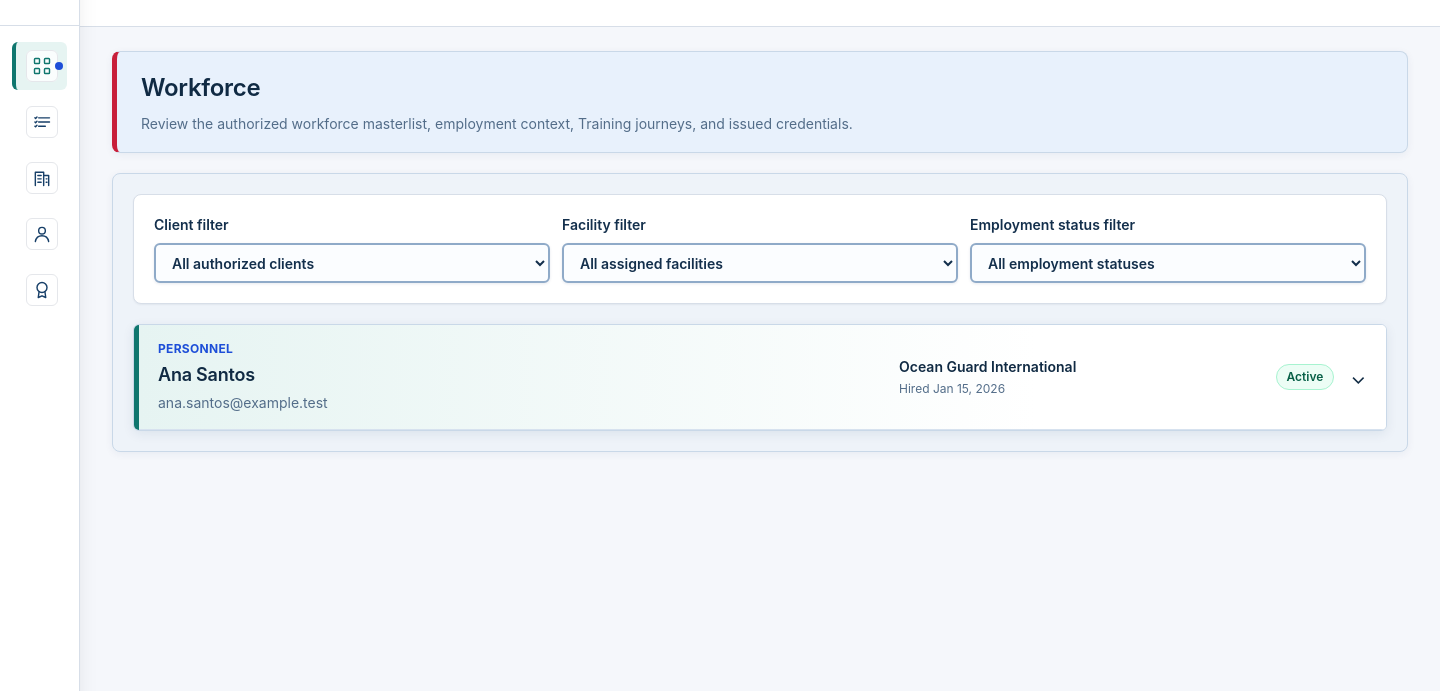
Test: Registration Facility Assignment frontend › renders Facility Assignment history with Facility labels, readable missing-name fallback, and multiple active assignments
Click the button "Ana Santos".
click(196, 348)  # box [138,325,1386,430]
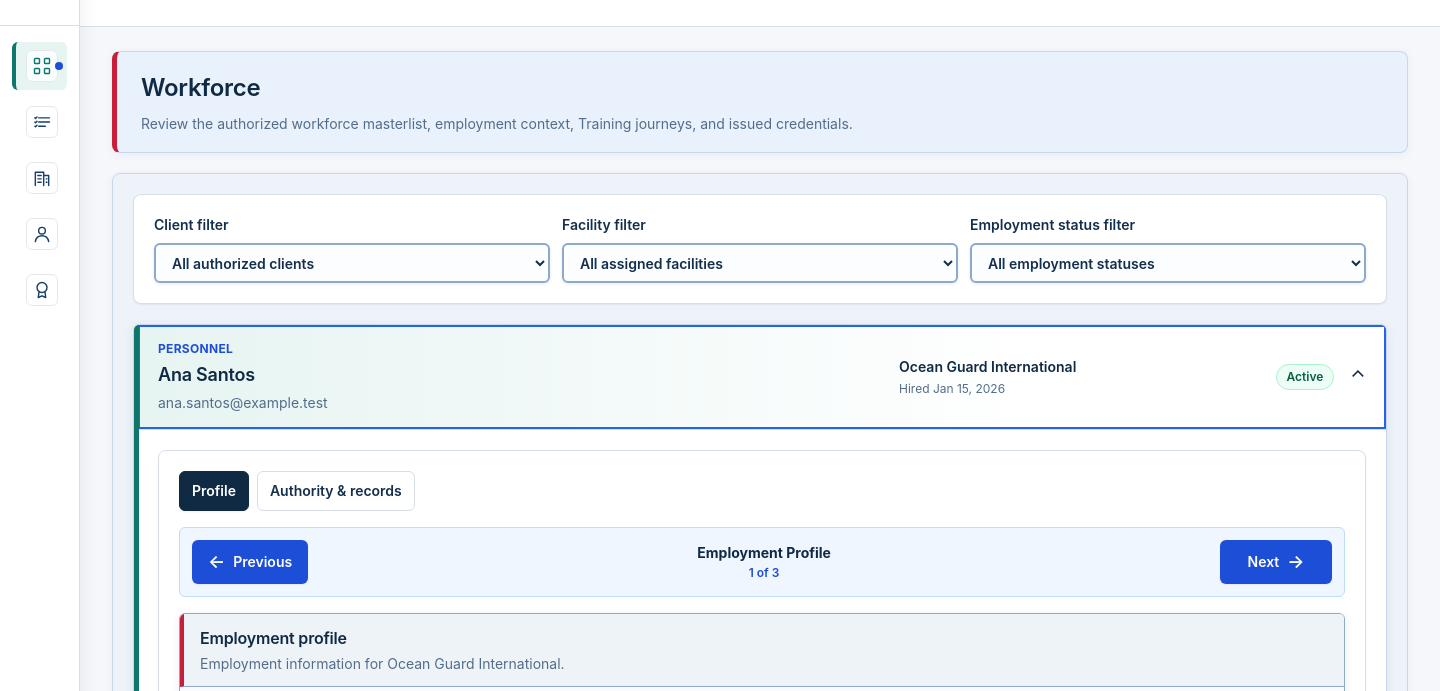
Click the button with aria-label "Next Profile card".
click(1276, 562)  # box [1220,540,1332,584]
(page scrolled)
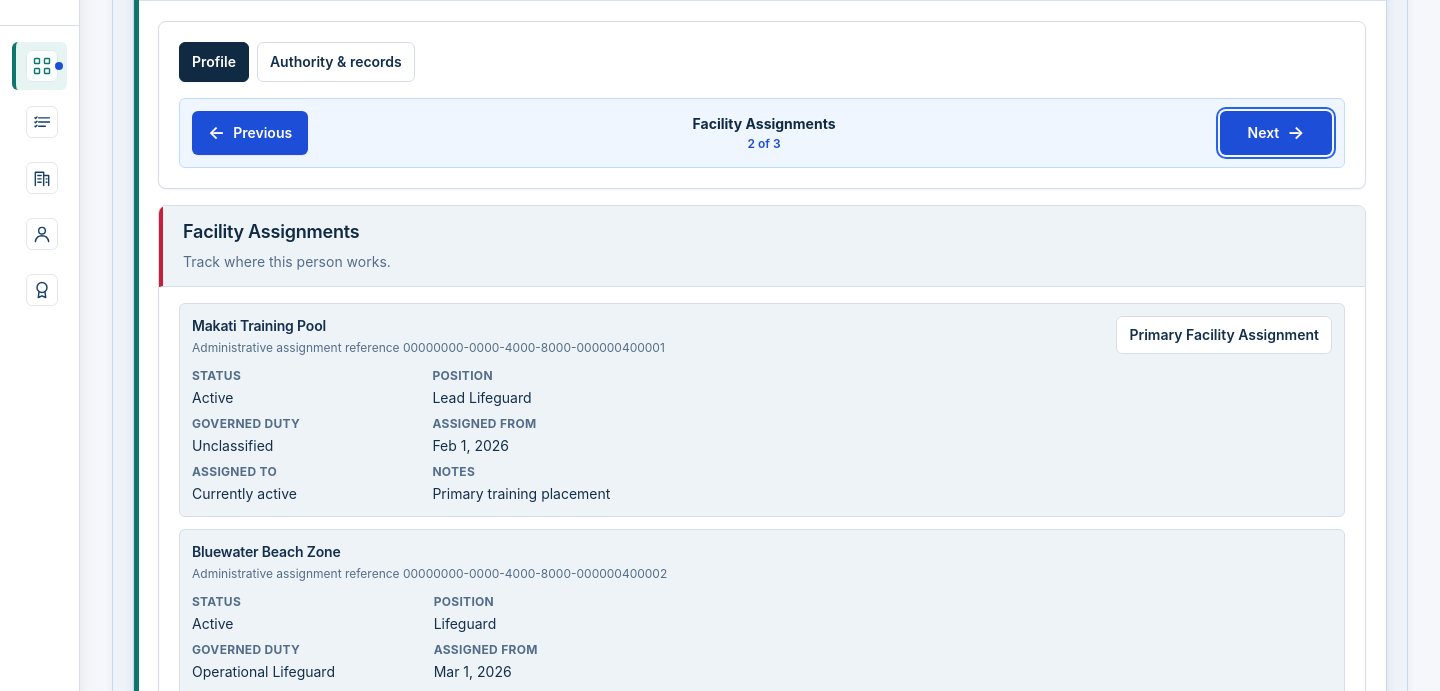
Now the heading "Facility Assignments" is shown, box [183,221,359,242]
Now the element named "Facility Assignment Makati Training Pool" is shown, box [179,303,1345,517]
Now the text "Active" next to "Lead Lifeguard" is shown, box [192,389,233,406]
